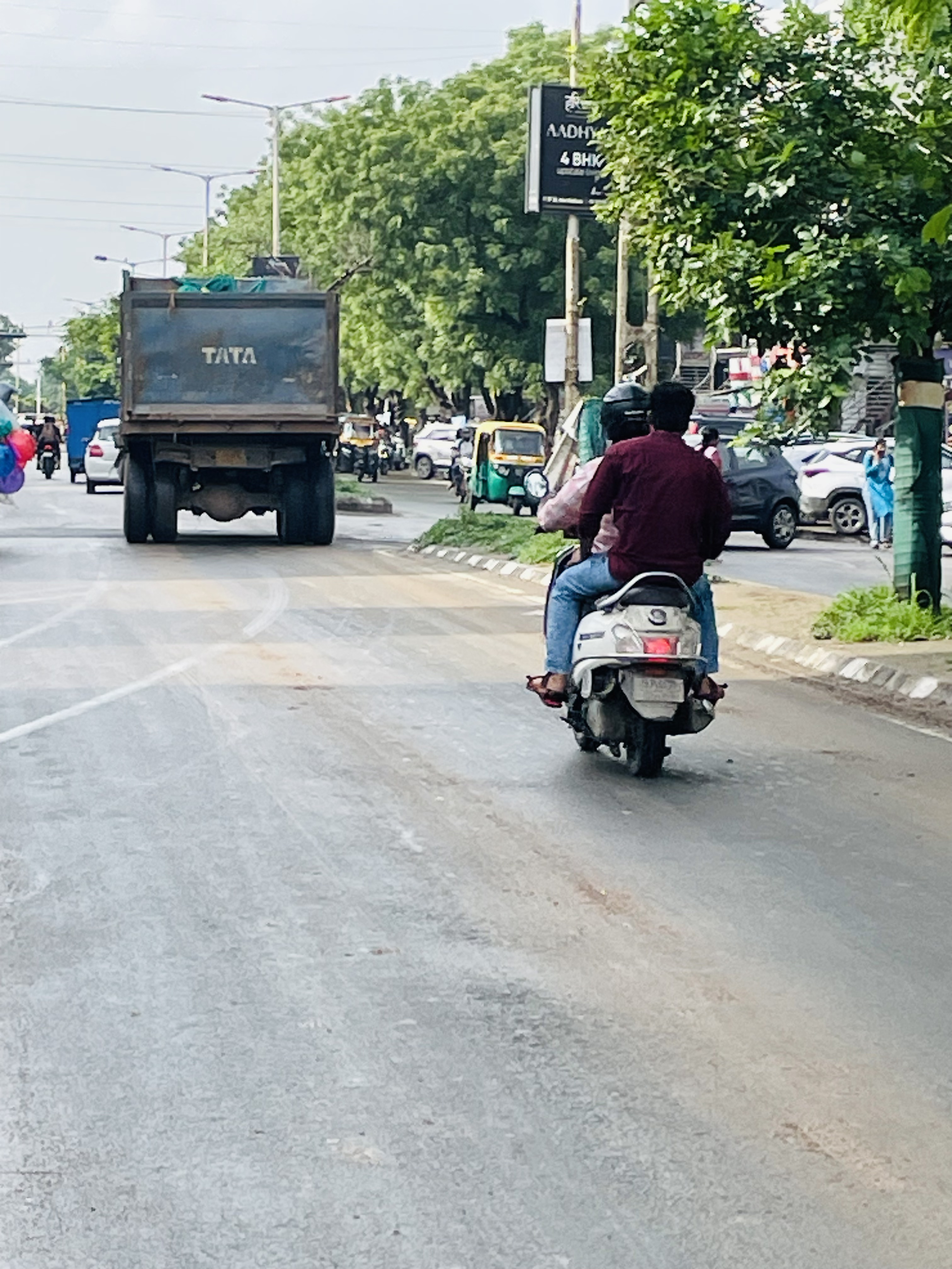BikeWithRider: (510, 361, 745, 780), (29, 412, 64, 482)
Helmet: (596, 375, 659, 446)
NoHelmet: (645, 375, 701, 442)
